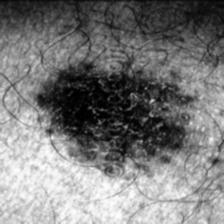Non-Cancerous Skin Condition: (19, 56, 102, 191), (128, 59, 188, 170)
